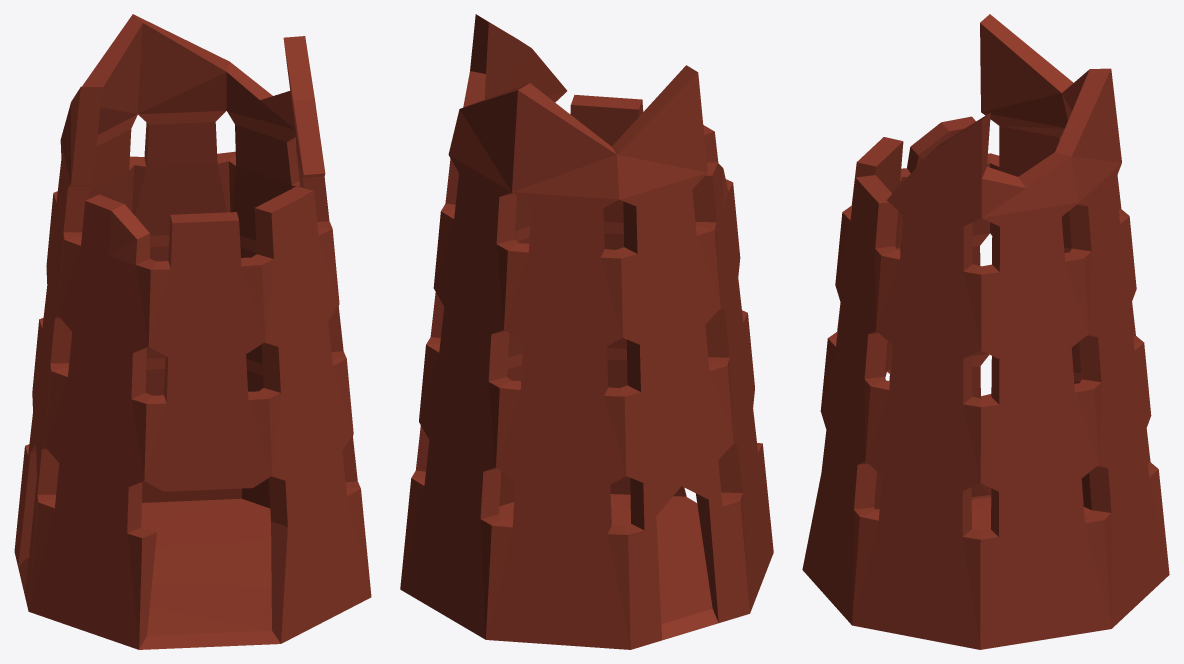
Rendered from tower.obj.
3 renders of one model, left to right at view 1: azimuth 30°, elevation 25°; view 2: azimuth 150°, elevation 25°; view 3: azimuth 270°, elevation 25°, orthographic. The views are drawn at different scales.
Visible parts, largest first — view 1: tower; view 2: tower; view 3: tower.
Part boxes in pixels (box(x1,y1,x2,y2)): tower: box(14, 14, 371, 649); tower: box(400, 14, 773, 649); tower: box(802, 14, 1169, 649).
Bounding box in the file's own units: 3.41 × 5.18 × 3.41.
